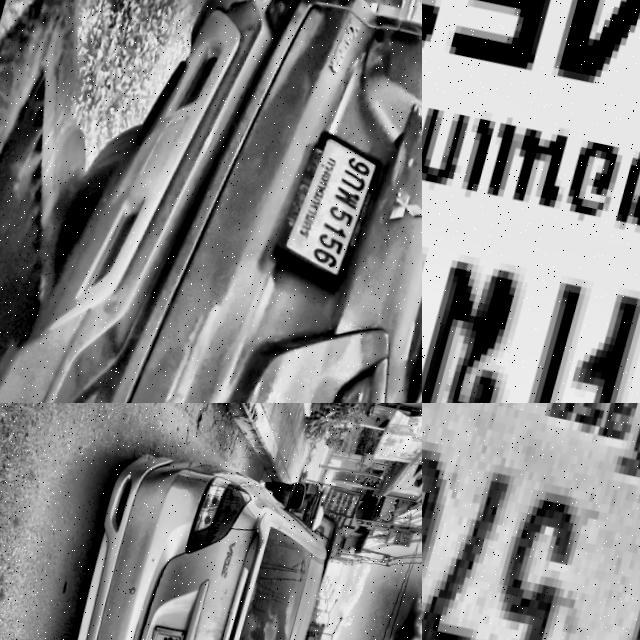license-plate: (422, 0, 640, 403), (422, 403, 640, 640), (329, 184, 422, 312), (223, 565, 291, 608)
